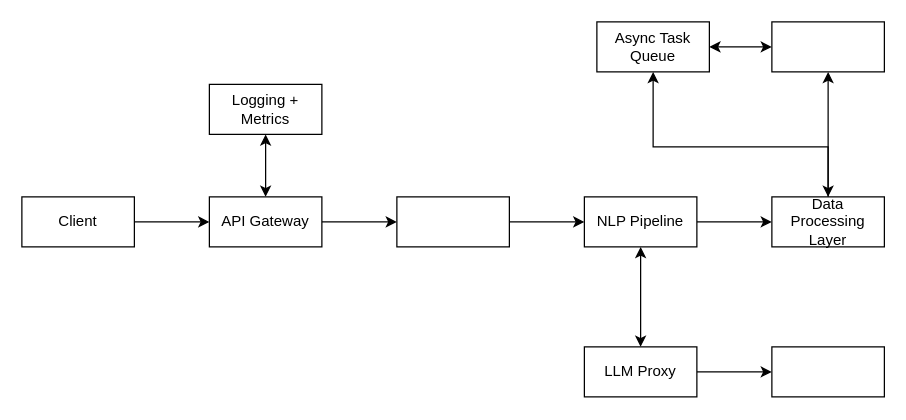
The diagram is 906 pixels wide and 420 high, and some of its shapes have lost their labels. Here are the shapes that lost their labels. From the top down, the centre of each, then its label:
point 827,46: Database Postgres
point 452,221: Caching
point 827,371: LLM Observability Tool
